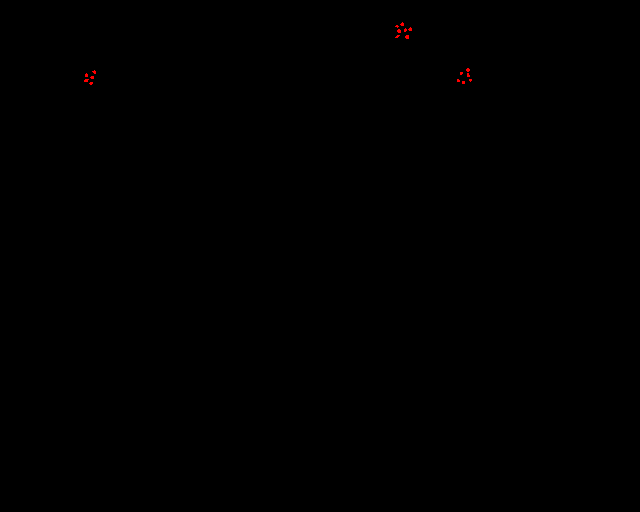Target: (400, 22, 404, 26), (408, 27, 412, 31), (397, 29, 401, 33), (405, 35, 409, 39), (466, 68, 470, 72), (92, 70, 96, 74), (395, 35, 400, 38), (84, 79, 89, 82), (395, 25, 399, 28), (404, 28, 407, 32), (85, 73, 88, 77), (467, 73, 470, 77), (90, 76, 94, 79), (89, 82, 93, 85), (460, 72, 463, 75), (457, 79, 460, 82), (469, 79, 472, 82), (462, 81, 465, 84)
